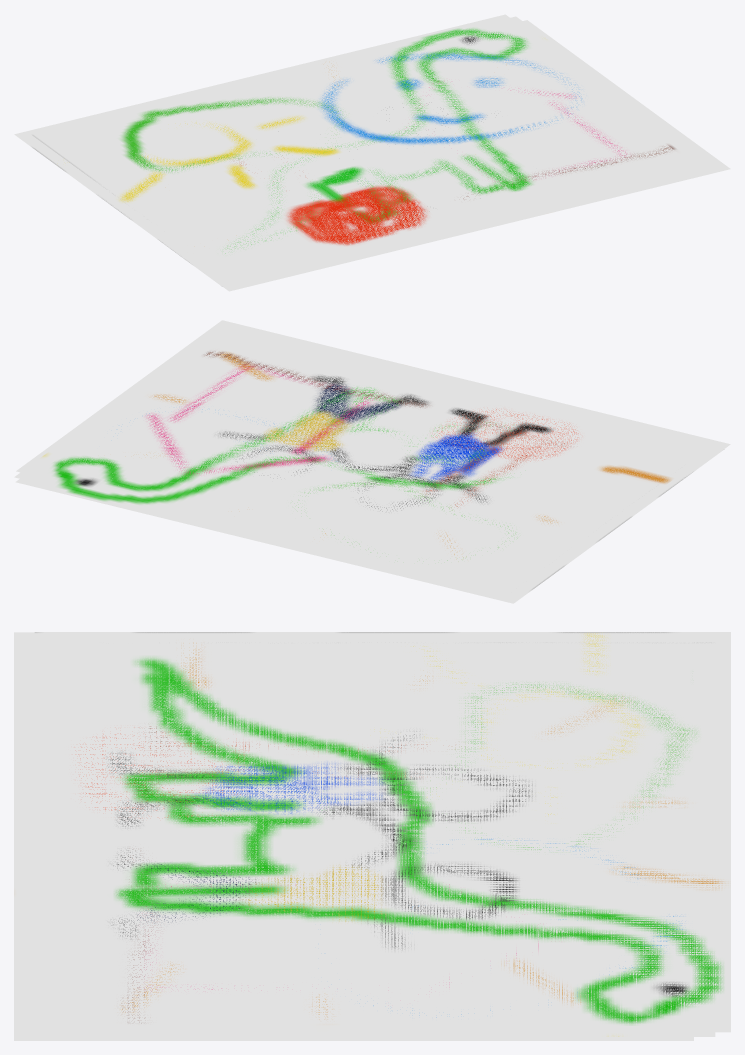
The model's file is paintedimaged1.fbx.
The picture shows the model from 3 angles, top to bottom: view 1: azimuth 30°, elevation 25°; view 2: azimuth 150°, elevation 25°; view 3: azimuth 270°, elevation 25°; orthographic projection. The views are drawn at different scales.
Parts seen in each view (by area): view 1: Bild3, Bil, Bil.001, Bild2; view 2: Bil, Bild2, Bil.001, Bild3; view 3: Bil, Bild2, Bild3, Bil.001.
Part boxes in pixels (x1,y1,x2,y2): Bild3: (64, 20, 730, 291); Bil: (14, 16, 700, 286); Bil.001: (31, 16, 719, 235); Bild2: (152, 14, 713, 280); Bil: (22, 330, 724, 603); Bild2: (15, 327, 717, 592); Bil.001: (14, 326, 676, 592); Bild3: (16, 320, 730, 494); Bil: (34, 632, 730, 1026); Bild2: (34, 638, 730, 1032); Bild3: (14, 632, 693, 1040); Bil.001: (35, 642, 715, 1036).
Bounding box in the file's own units: 88.8 × 1.07e-05 × 65.8.
